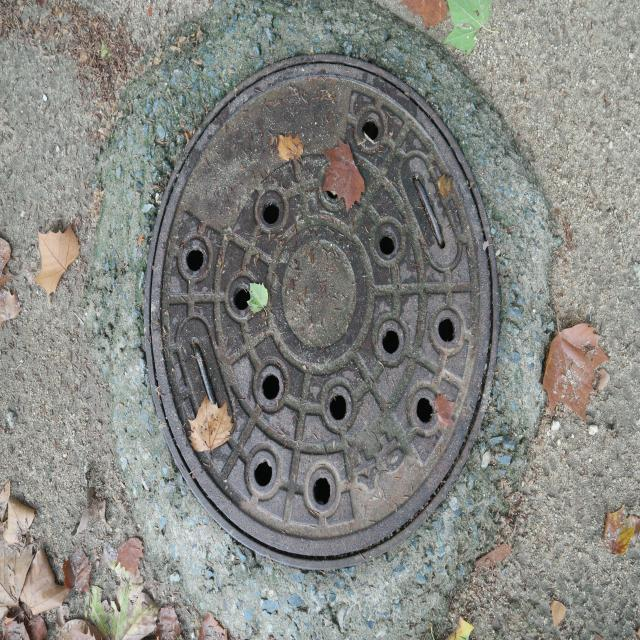manhole: (146, 55, 496, 568)
